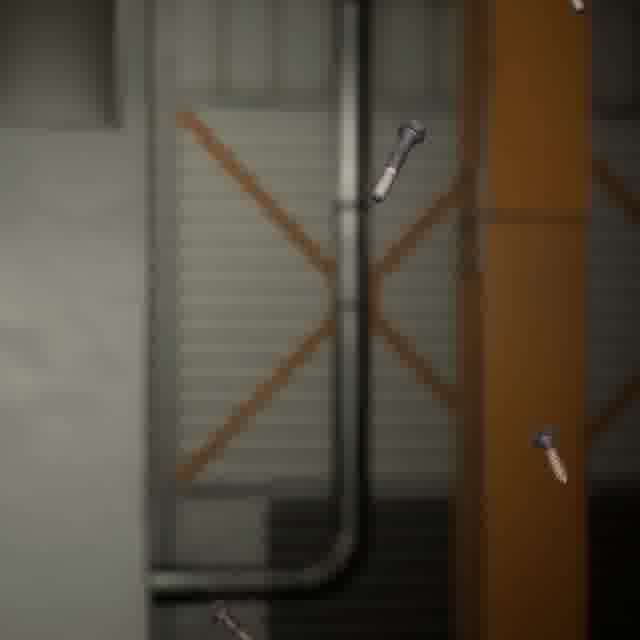bolt: (366, 114, 429, 207), (526, 421, 574, 487), (204, 596, 258, 640)
